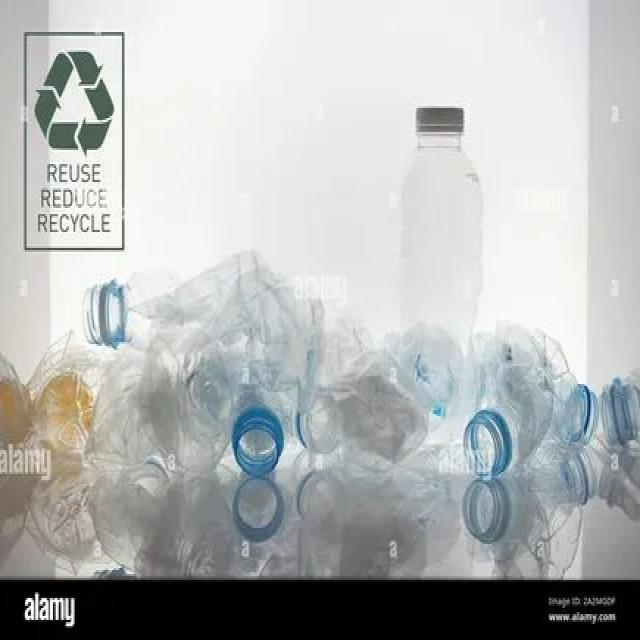blue: (463, 328, 550, 482)
